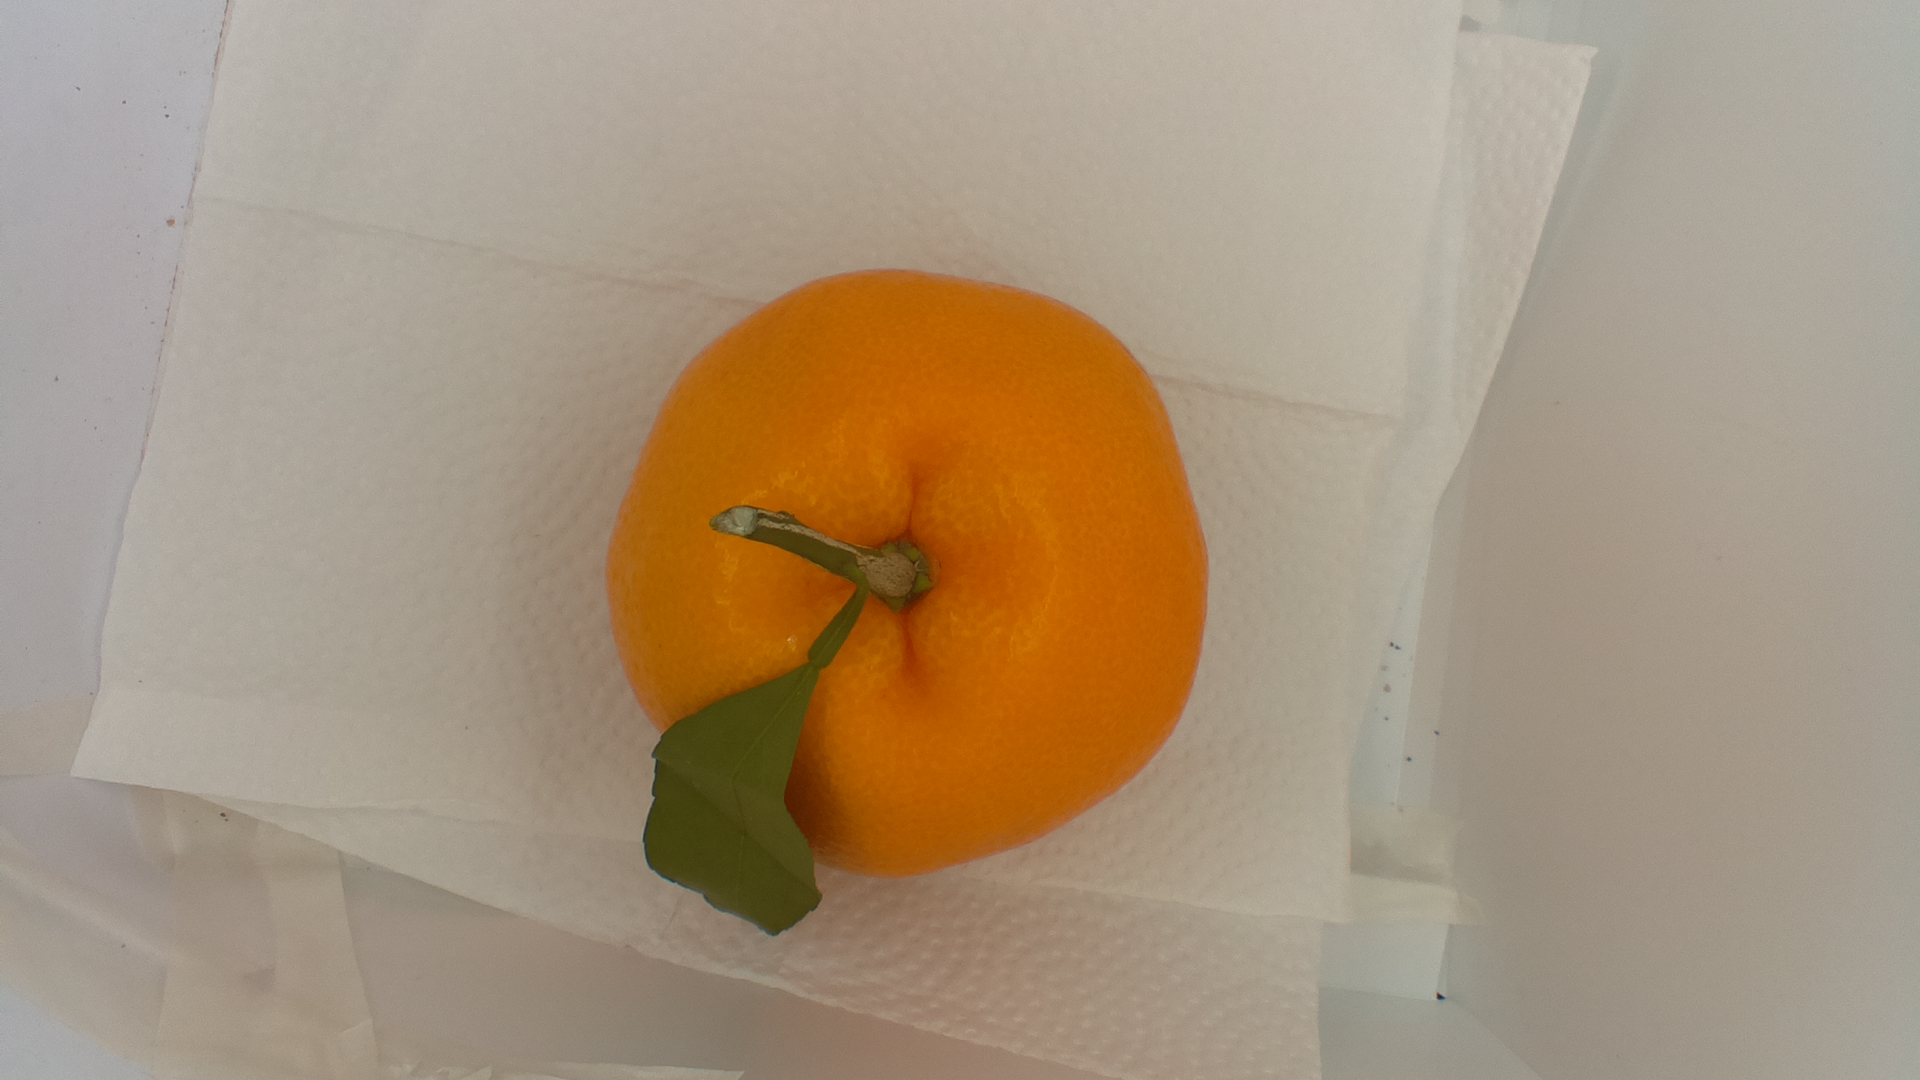fruit: (596, 260, 1218, 934)
